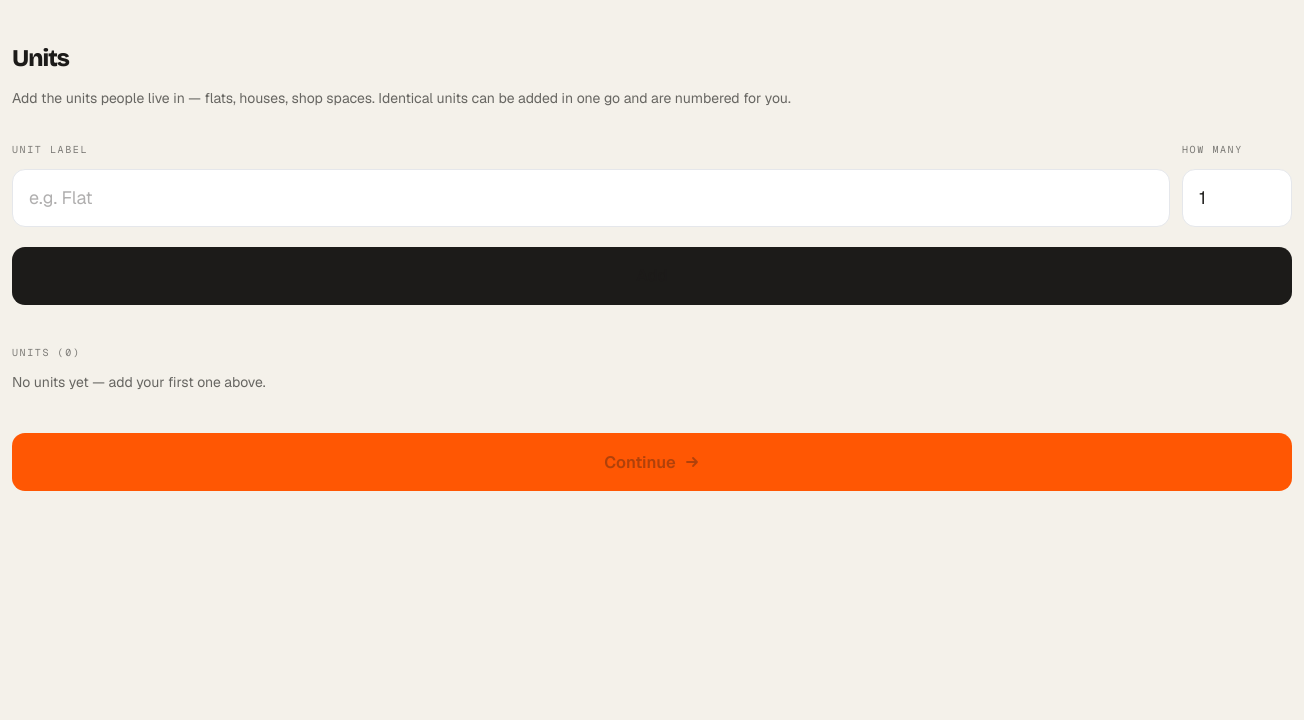
CommunityUnitsStep › adds a single unit without a numeric suffix
Expected: the heading "Units (0)" is shown, [12,346,80,359]
In the field labelled "Unit label": [591, 198] box [12,169,1170,227], type "Penthouse"
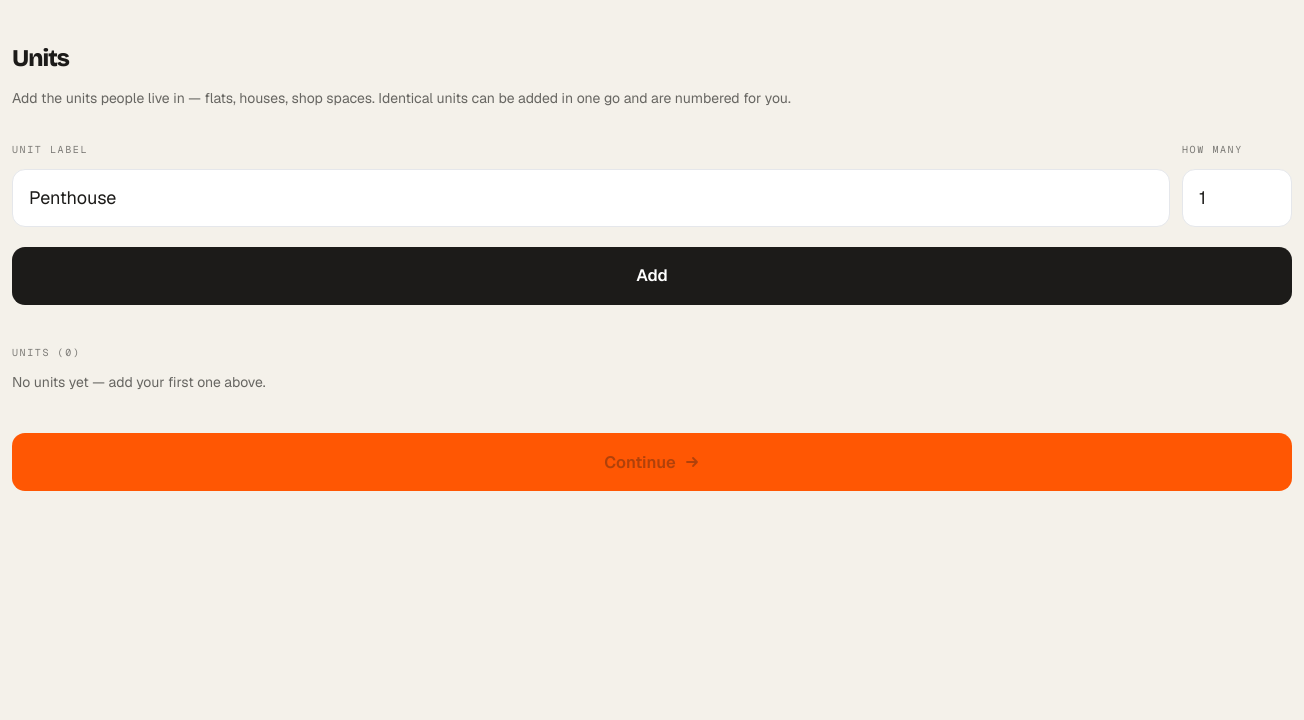
Expected: the button "Add" is enabled
Click the button "Add": [652, 276] box [12,247,1292,305]
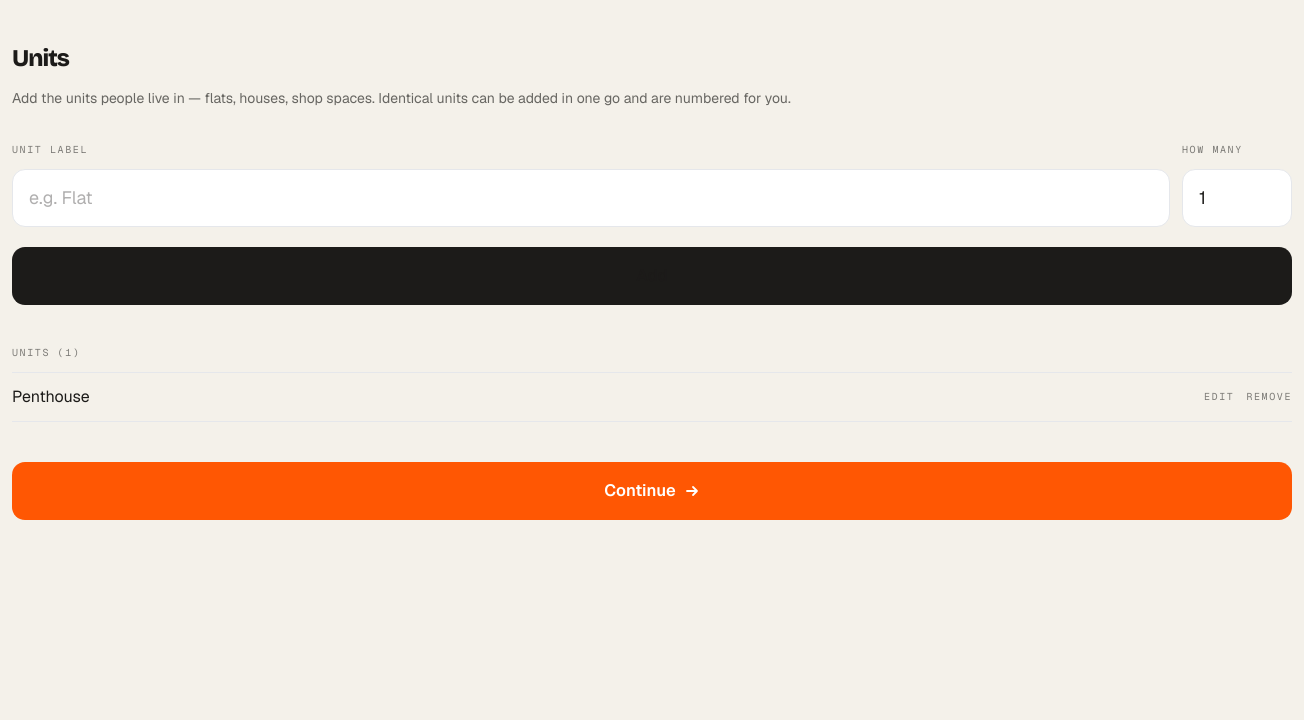
Expected: the text "Penthouse" is shown, [12,386,90,407]
